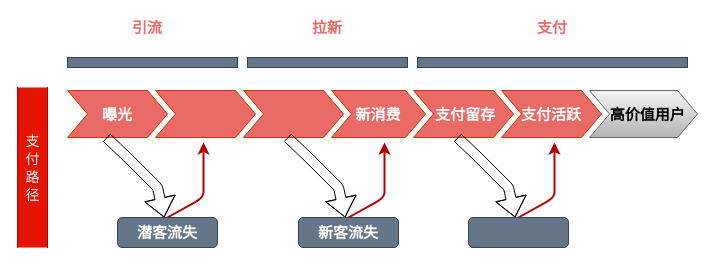
Image size: 725x265. Some labels were removed from this diagram. Here are the shapes that lost their labels. From the top down, the centre of each, then its label:
pixel 205 114: 访问浏览
pixel 293 114: 访问留存
pixel 518 232: 老客流失
